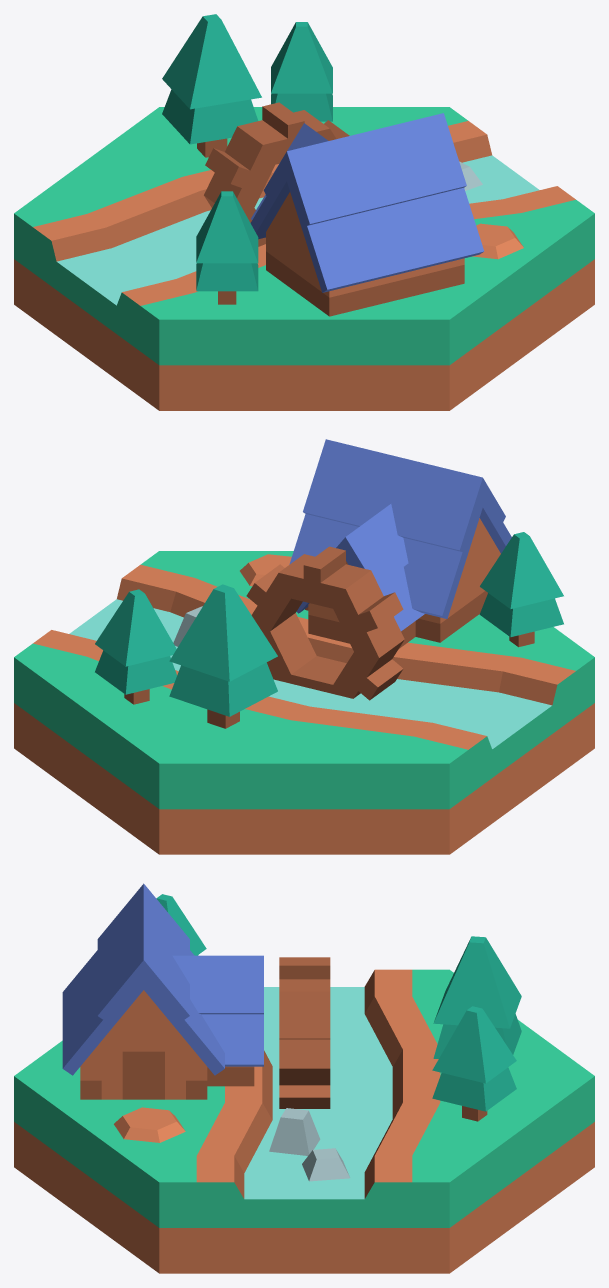
The model's file is building_water.dae.
3 renders of one model, top to bottom at view 1: azimuth 30°, elevation 25°; view 2: azimuth 150°, elevation 25°; view 3: azimuth 270°, elevation 25°, orthographic.
Visible parts, largest first — view 1: building_water, building, tree (×3), wheel, path; view 2: building_water, building, tree (×3), wheel, path; view 3: building_water, building, tree (×3), wheel, rock (×2), path.
Boxes of the visible parts, <box> form: building_water: <box>14,107,594,410</box>; building: <box>250,113,484,316</box>; tree (×3): <box>162,14,332,304</box>; wheel: <box>204,102,349,246</box>; path: <box>472,223,523,259</box>; building_water: <box>14,551,594,854</box>; building: <box>289,439,511,648</box>; tree (×3): <box>95,532,563,728</box>; wheel: <box>246,546,404,700</box>; path: <box>240,554,291,586</box>; building_water: <box>14,969,594,1273</box>; building: <box>62,883,263,1099</box>; tree (×3): <box>156,894,521,1121</box>; wheel: <box>279,957,330,1108</box>; rock (×2): <box>269,1108,349,1181</box>; path: <box>114,1107,185,1142</box>.
Size of the model in its own units: 1 by 0.5176 by 1.15.
